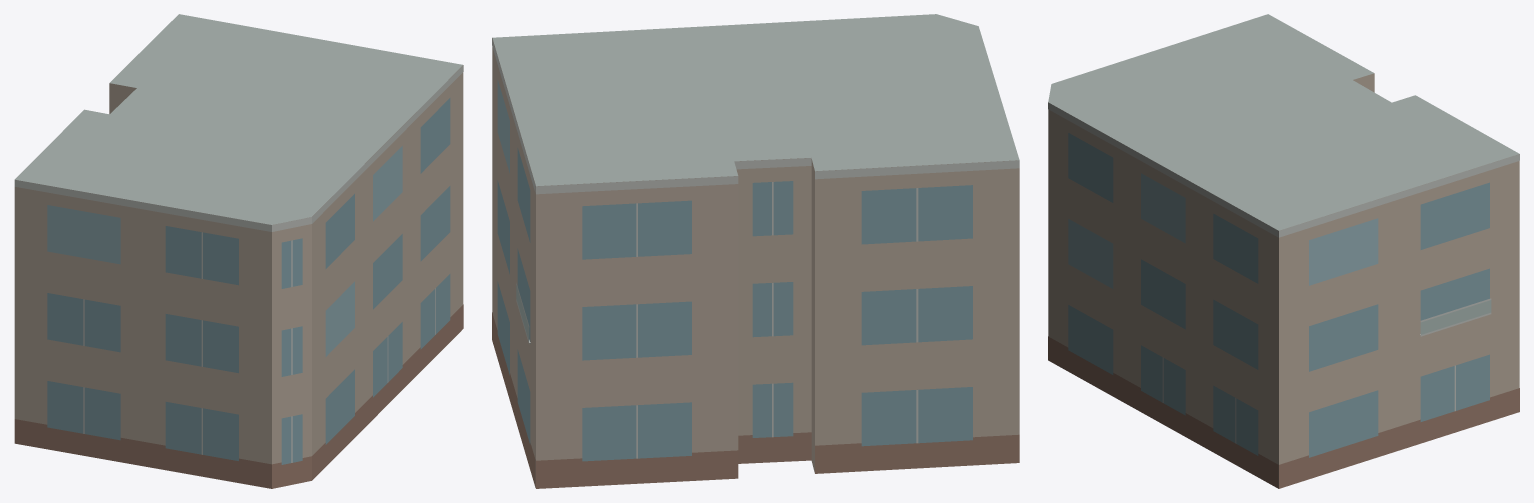
File: survey-upis-32666963.glb
3 renders of one model, left to right at view 1: azimuth 30°, elevation 25°; view 2: azimuth 150°, elevation 25°; view 3: azimuth 270°, elevation 25°, orthographic. The views are drawn at different scales.
Visible parts, largest first — view 1: survey-upis-32666963.tmp; view 2: survey-upis-32666963.tmp; view 3: survey-upis-32666963.tmp.
Part boxes in pixels (x1,y1,x2,y2): survey-upis-32666963.tmp: [14, 14, 463, 488]; survey-upis-32666963.tmp: [492, 14, 1019, 488]; survey-upis-32666963.tmp: [1048, 14, 1519, 488].
Bounding box in the file's own units: 16.4 × 9.1 × 15.08.
